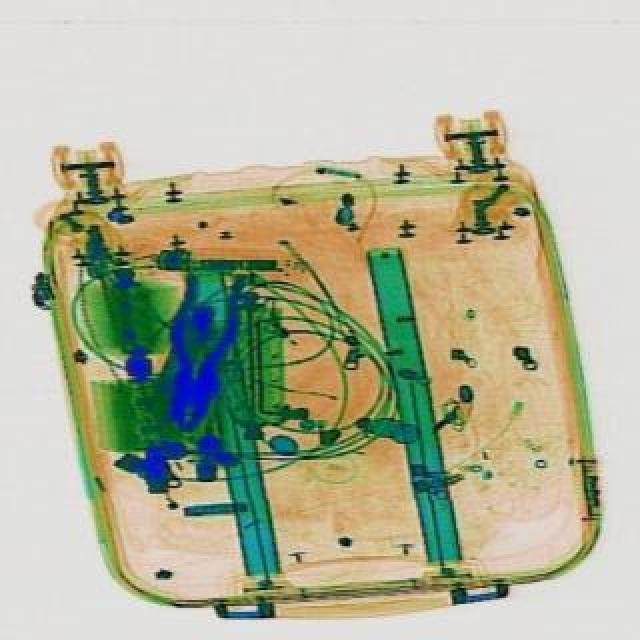wrench: (150, 266, 246, 432)
